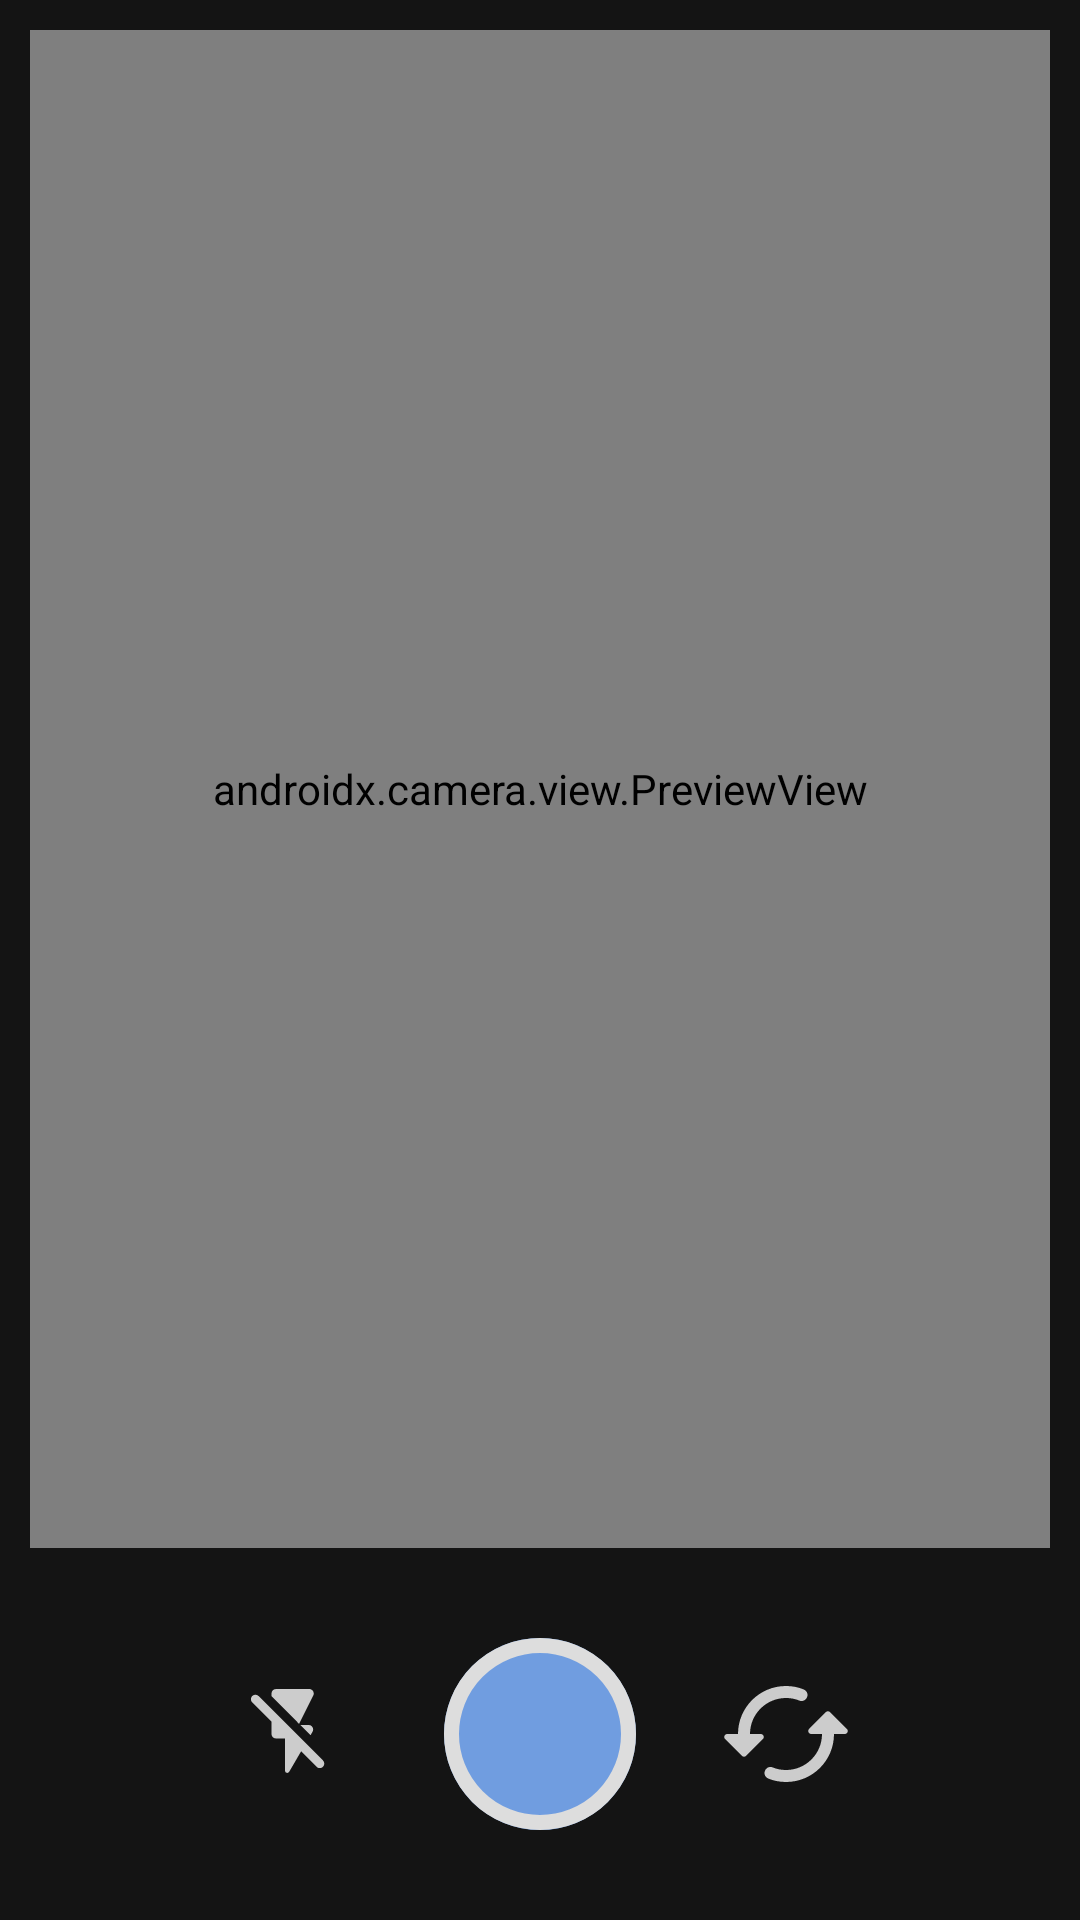

Where to tap for icons on this 1080 x 1920 app screen, as (x,y):
flash off: (288,1731)
flip: (786,1734)
